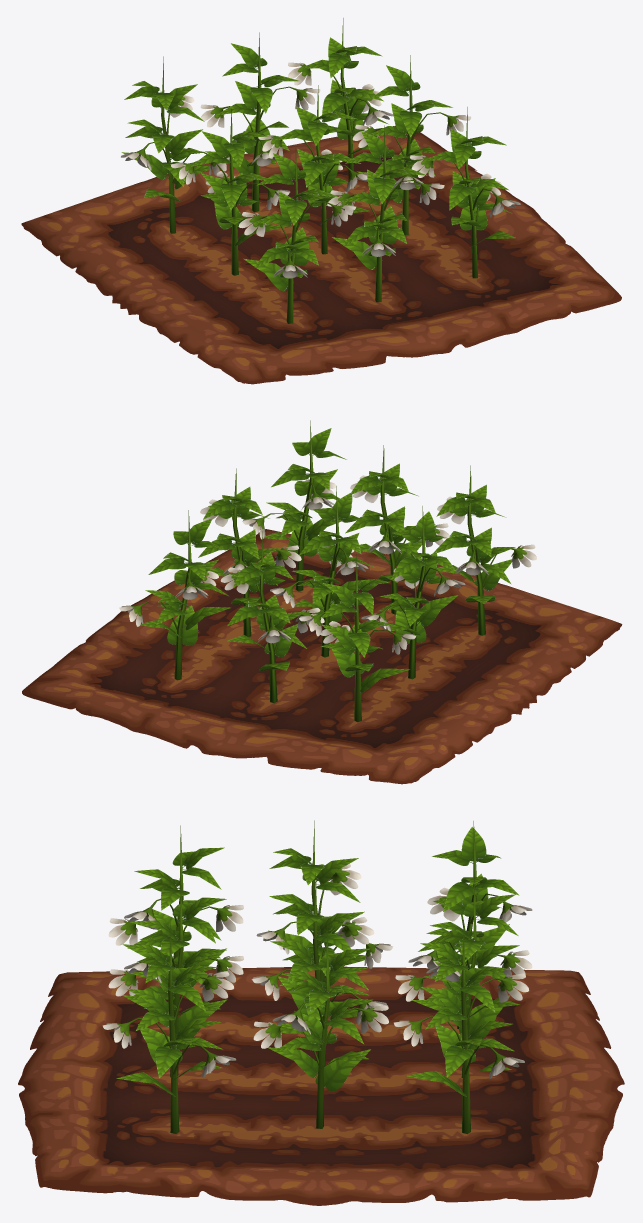
Rendered from BellPepper_Field_Yellow_Lv2.FBX.
The picture shows the model from 3 angles, top to bottom: view 1: azimuth 30°, elevation 25°; view 2: azimuth 150°, elevation 25°; view 3: azimuth 270°, elevation 25°; orthographic projection. The views are drawn at different scales.
Visible parts, largest first — view 1: BellPepper_Field_Yellow_Lv2; view 2: BellPepper_Field_Yellow_Lv2; view 3: BellPepper_Field_Yellow_Lv2.
Boxes of the visible parts, x1,y1,x2,y2 form: BellPepper_Field_Yellow_Lv2: (21, 18, 621, 384); BellPepper_Field_Yellow_Lv2: (22, 420, 622, 784); BellPepper_Field_Yellow_Lv2: (18, 820, 624, 1205).
Bounding box in the file's own units: 274 × 114 × 296.
